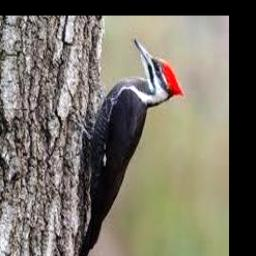Woodpecker: (74, 37, 184, 256)
